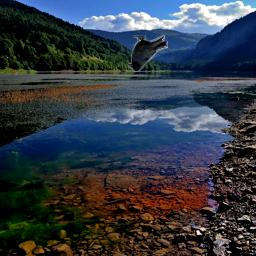Crow: (128, 35, 168, 72)
